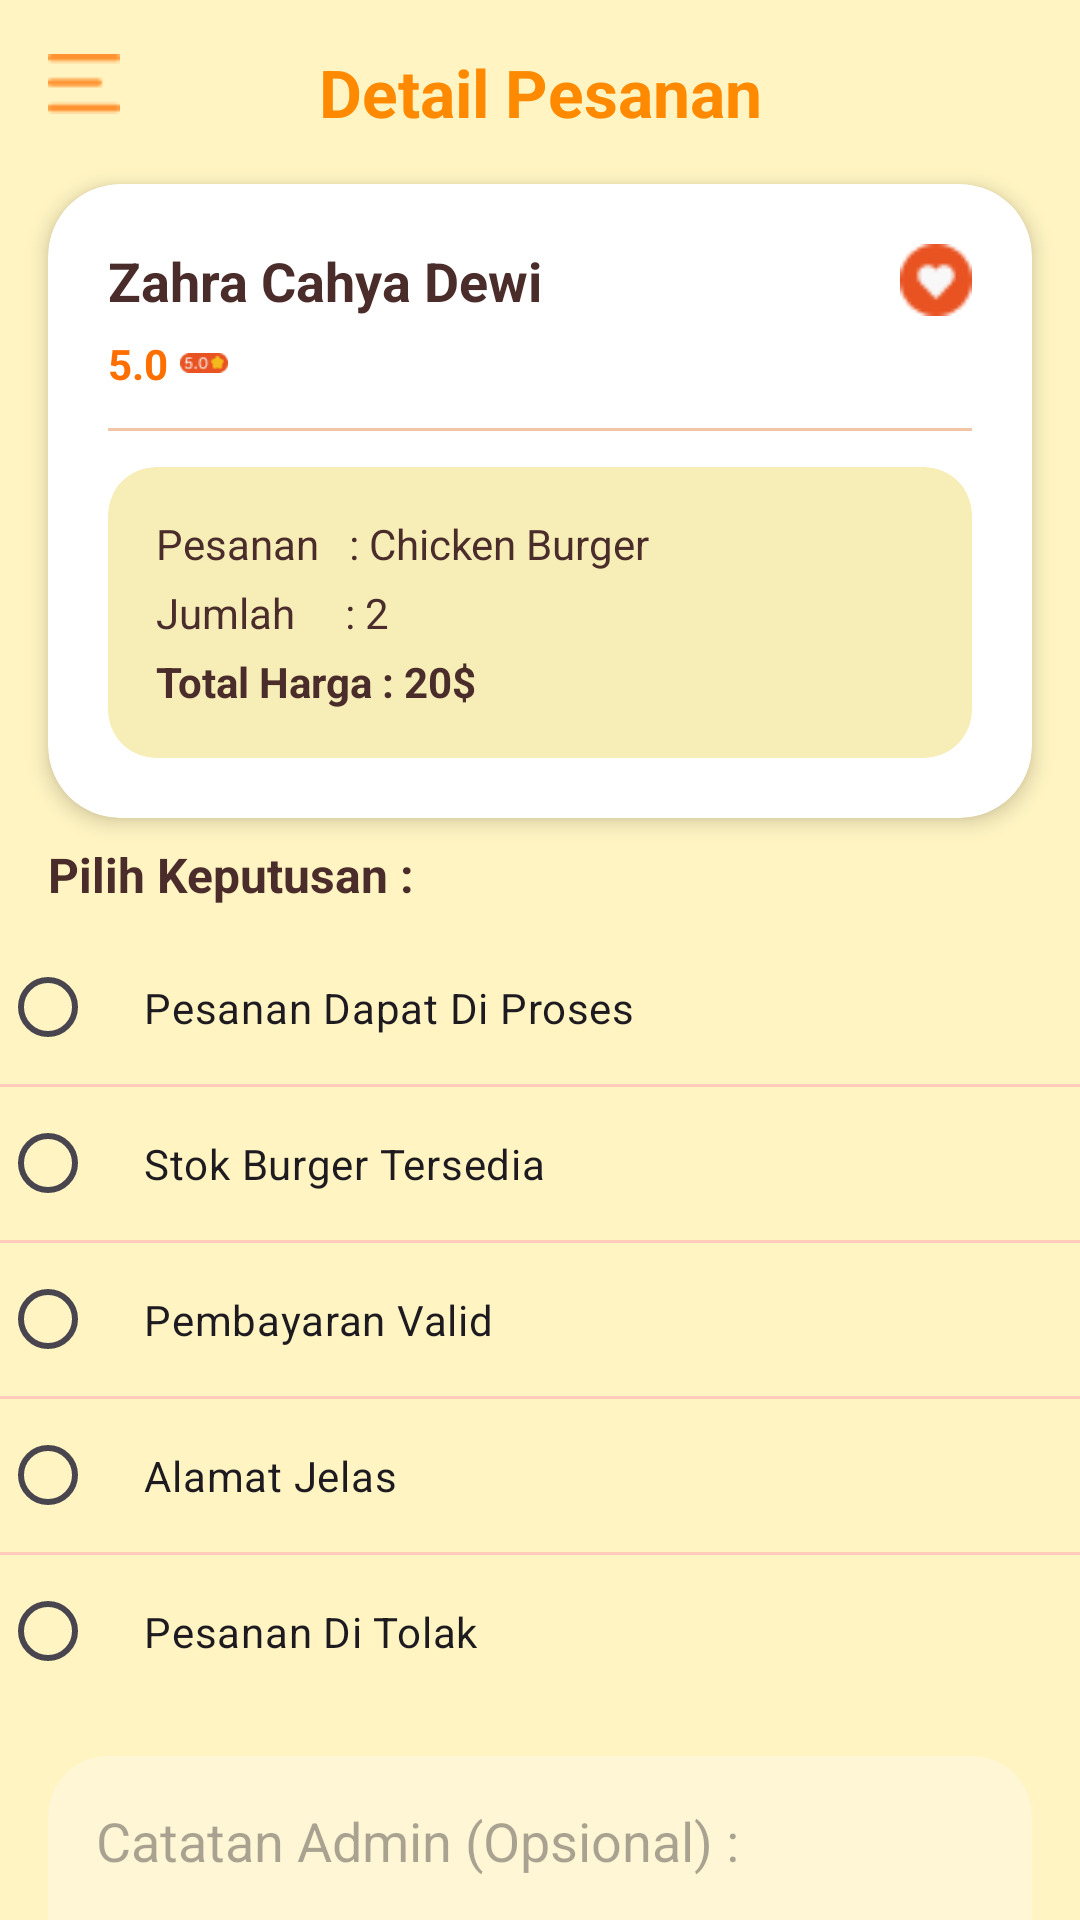

Icon bounding boxes for this 1080*1920 phone screenshot, format (x1, y1, x2, y2):
bar: (48, 54, 120, 114)
loveikon: (900, 244, 972, 316)
rate: (180, 353, 228, 373)
